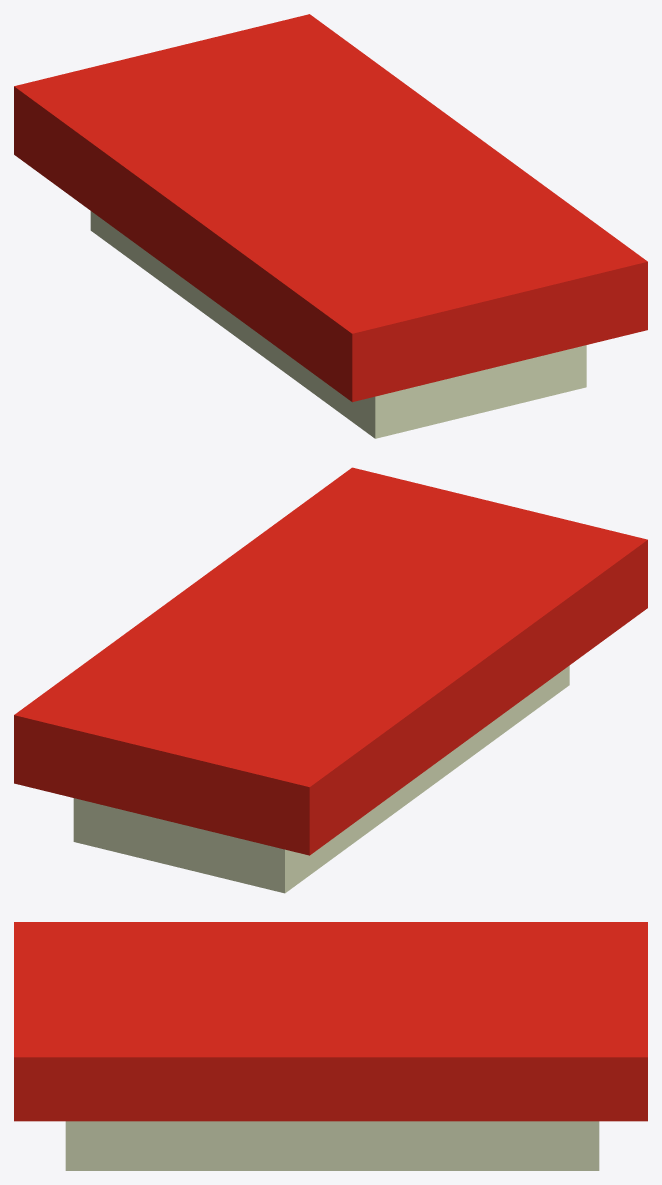
File: test_box_3_bld.glb
3 views of the same model, one above another, from view 1: azimuth 30°, elevation 25°; view 2: azimuth 150°, elevation 25°; view 3: azimuth 270°, elevation 25° (orthographic). The views are drawn at different scales.
Parts seen in each view (by area): view 1: Box001, Box002; view 2: Box001, Box002; view 3: Box001, Box002.
Part boxes in pixels (x1,y1,x2,y2): Box001: [14, 14, 647, 402]; Box002: [90, 211, 586, 438]; Box001: [14, 467, 647, 855]; Box002: [73, 665, 569, 893]; Box001: [14, 922, 647, 1121]; Box002: [65, 1121, 599, 1170].
Bounding box in the file's own units: 0.1063 × 0.0473 × 0.2106.
